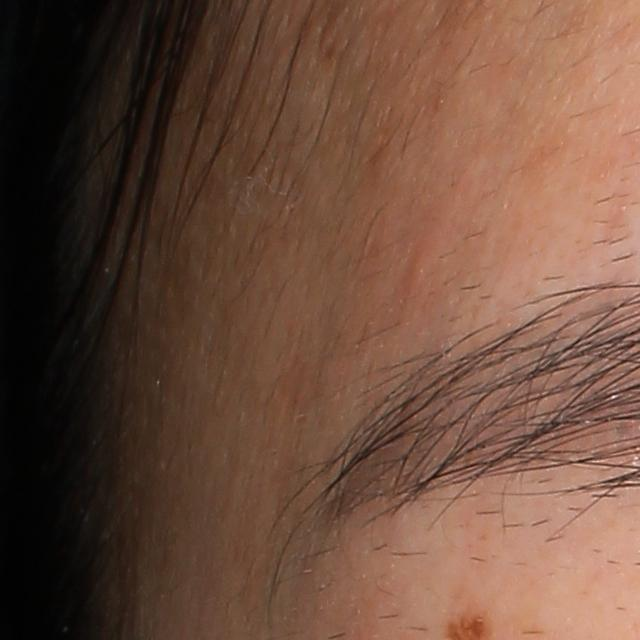papule: (406, 231, 442, 292)
